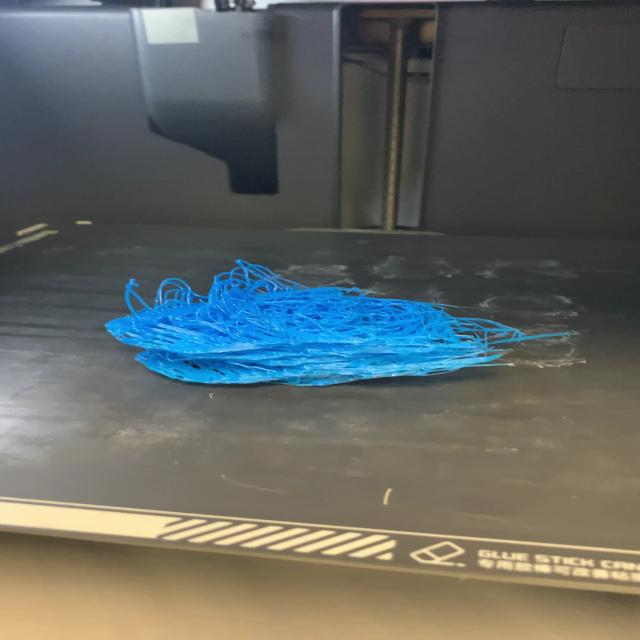spaghetti: (2, 495, 638, 596), (101, 257, 585, 389)
